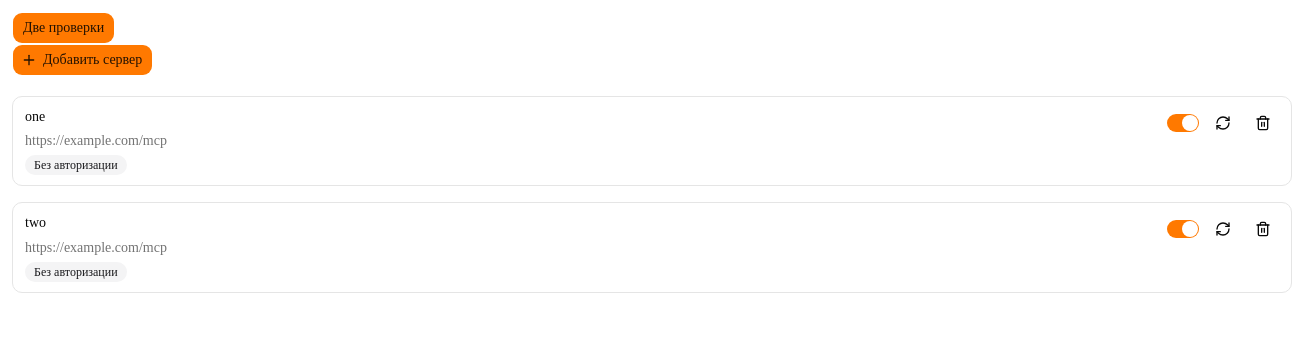
Scenario: сетевой отказ проверки виден и позволяет повторить без старого успеха
Step 1. Click the button named "Проверить one" → (1223, 123), box [1207,107,1239,139]
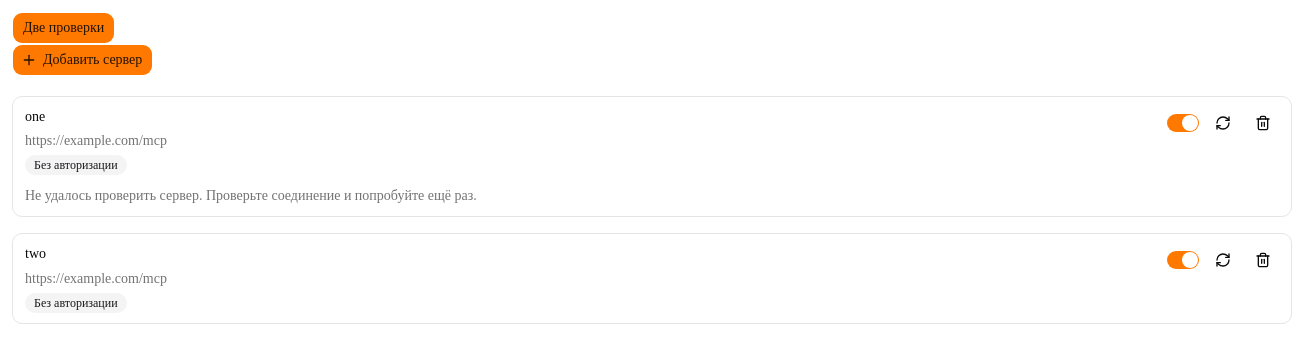
Step 2. Click the button named "Проверить one" → (1223, 123), box [1207,107,1239,139]
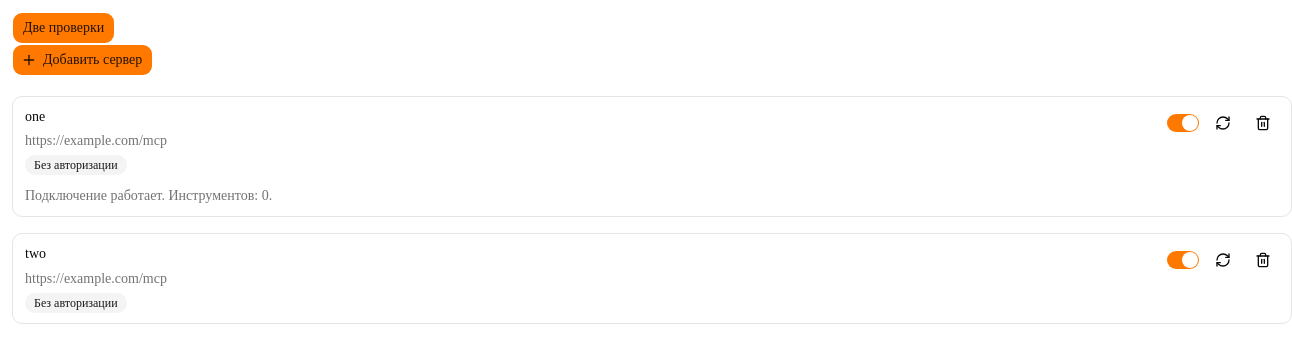
Check: the text "Подключение работает. Инструментов: 0." is shown, box [25,185,272,206]
